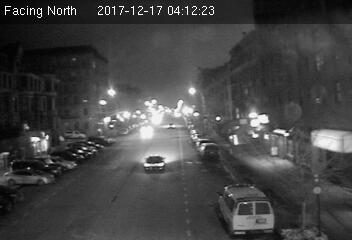car: (142, 155, 166, 172)
police: (214, 183, 275, 235)
